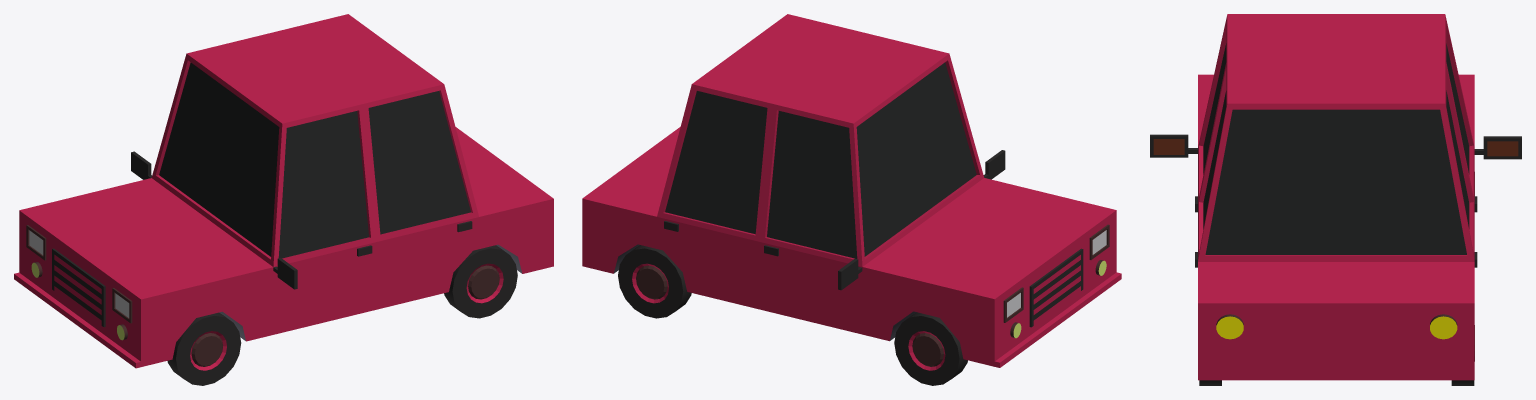
The model's file is car7.FBX.
3 views of the same model, side by side, from view 1: azimuth 30°, elevation 25°; view 2: azimuth 150°, elevation 25°; view 3: azimuth 270°, elevation 25° (orthographic). The views are drawn at different scales.
Visible parts, largest first — view 1: car7; view 2: car7; view 3: car7.
Part boxes in pixels (x1,y1,x2,y2): car7: (14, 14, 553, 385); car7: (582, 14, 1121, 385); car7: (1150, 14, 1521, 385).
Bounding box in the file's own units: 9.78 × 5.11 × 6.58.
